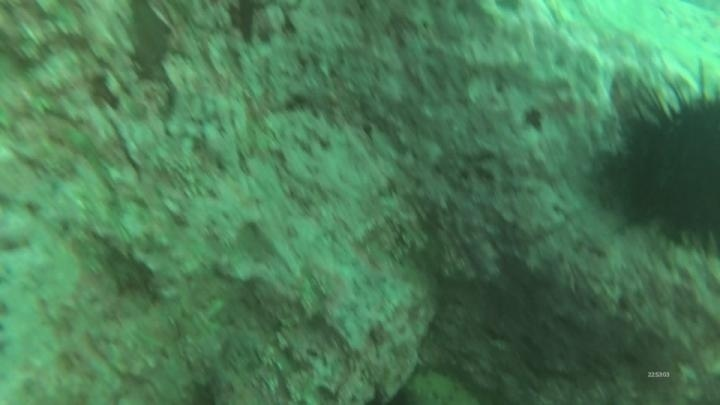echinus: (604, 65, 720, 253)
holothurian: (397, 366, 481, 404)
